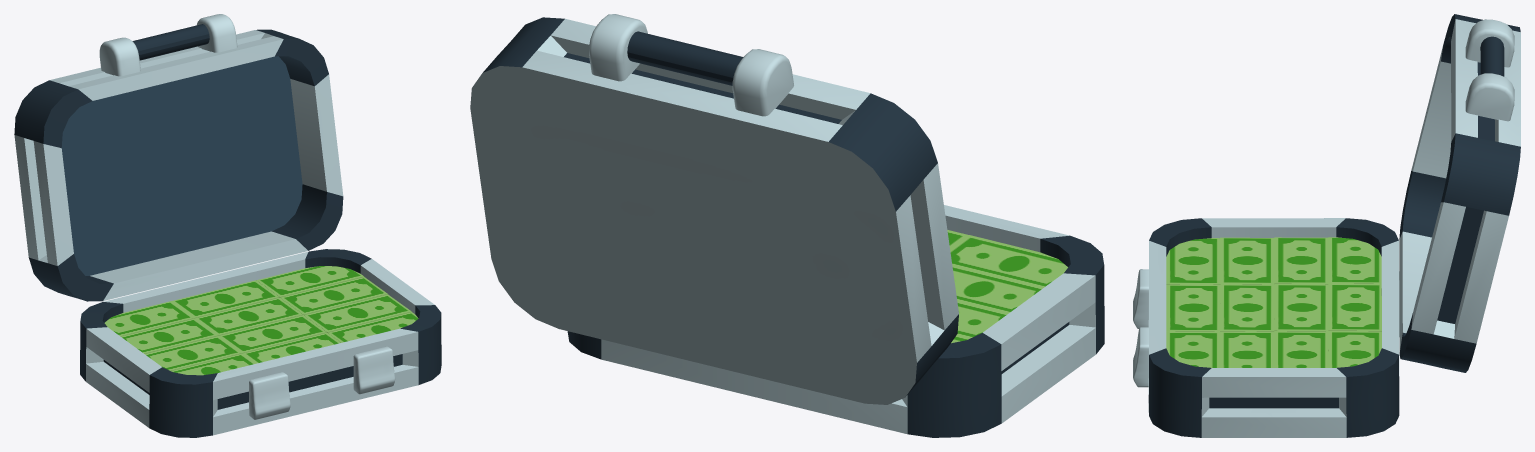
Rendered from suitcase of mony.fbx.
The picture shows the model from 3 angles, left to right: view 1: azimuth 30°, elevation 25°; view 2: azimuth 150°, elevation 25°; view 3: azimuth 270°, elevation 25°; orthographic projection. The views are drawn at different scales.
Parts seen in each view (by area): view 1: case.001, Cube.010; view 2: case.001, Cube.010; view 3: case.001, Cube.010.
Part boxes in pixels (x1,y1,x2,y2): case.001: (14,14,441,437); Cube.010: (104,266,418,375); case.001: (470,14,1104,437); Cube.010: (947,230,1067,343); case.001: (1133,14,1520,437); Cube.010: (1166,237,1381,367).
Size of the model in its own units: 2.53 by 2.28 by 2.6.
